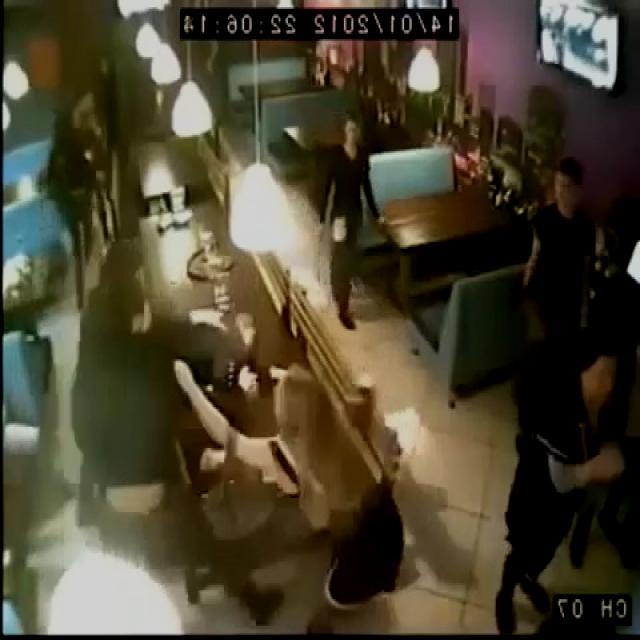fight: (83, 184, 264, 478)
